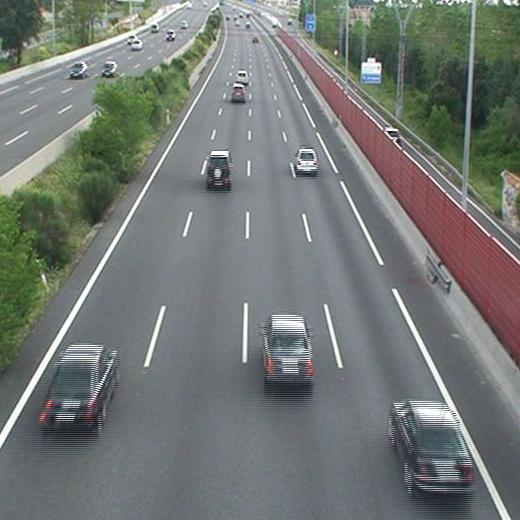car: (390, 402, 474, 490), (42, 345, 116, 424), (262, 314, 313, 380), (206, 150, 232, 185), (295, 150, 318, 173), (231, 85, 245, 100), (235, 71, 249, 84)
